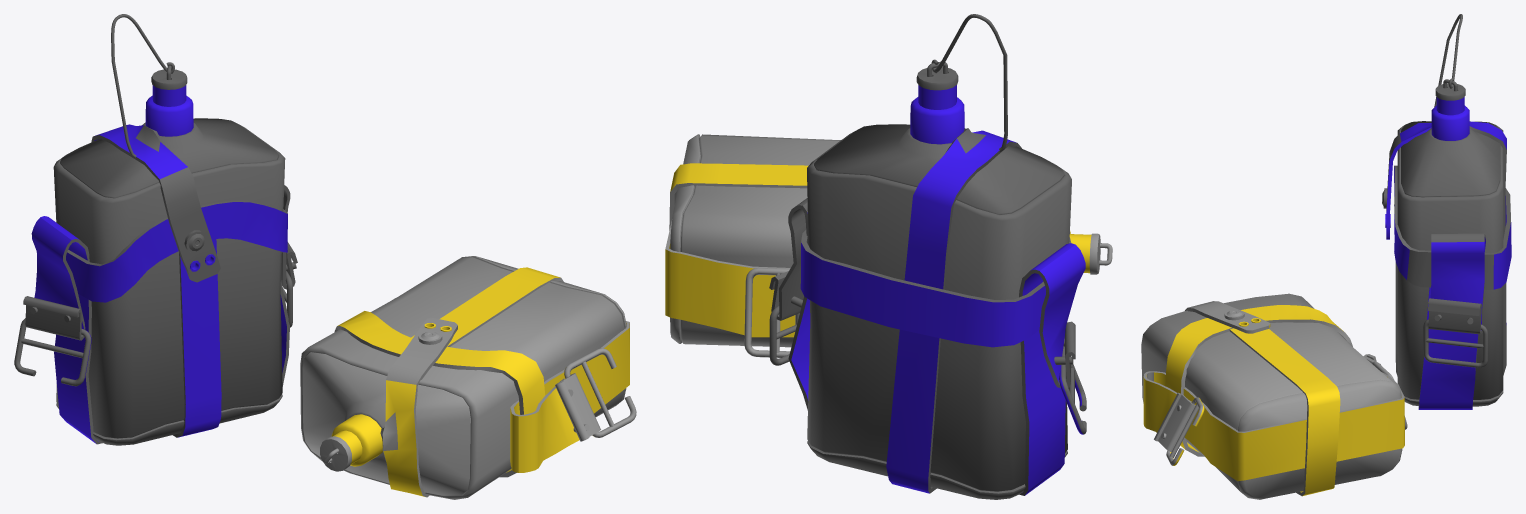
The model's file is Water_bottle_set.FBX.
3 renders of one model, left to right at view 1: azimuth 30°, elevation 25°; view 2: azimuth 150°, elevation 25°; view 3: azimuth 270°, elevation 25°, orthographic. The views are drawn at different scales.
Parts seen in each view (by area): view 1: Bottle_Low001, Bottle_Low, Straps_Low; view 2: Bottle_Low, Straps_Low, Bottle_Low001; view 3: Bottle_Low001, Bottle_Low, Straps_Low.
Part boxes in pixels (x1,y1,x2,y2): Bottle_Low001: (300, 256, 636, 499); Bottle_Low: (53, 14, 285, 445); Straps_Low: (14, 69, 297, 444); Bottle_Low: (807, 14, 1071, 499); Straps_Low: (769, 66, 1086, 495); Bottle_Low001: (665, 134, 1112, 357); Bottle_Low001: (1141, 293, 1407, 499); Bottle_Low: (1382, 14, 1503, 406); Straps_Low: (1386, 83, 1511, 409).
Size of the model in its own units: 534 by 432 by 421.
